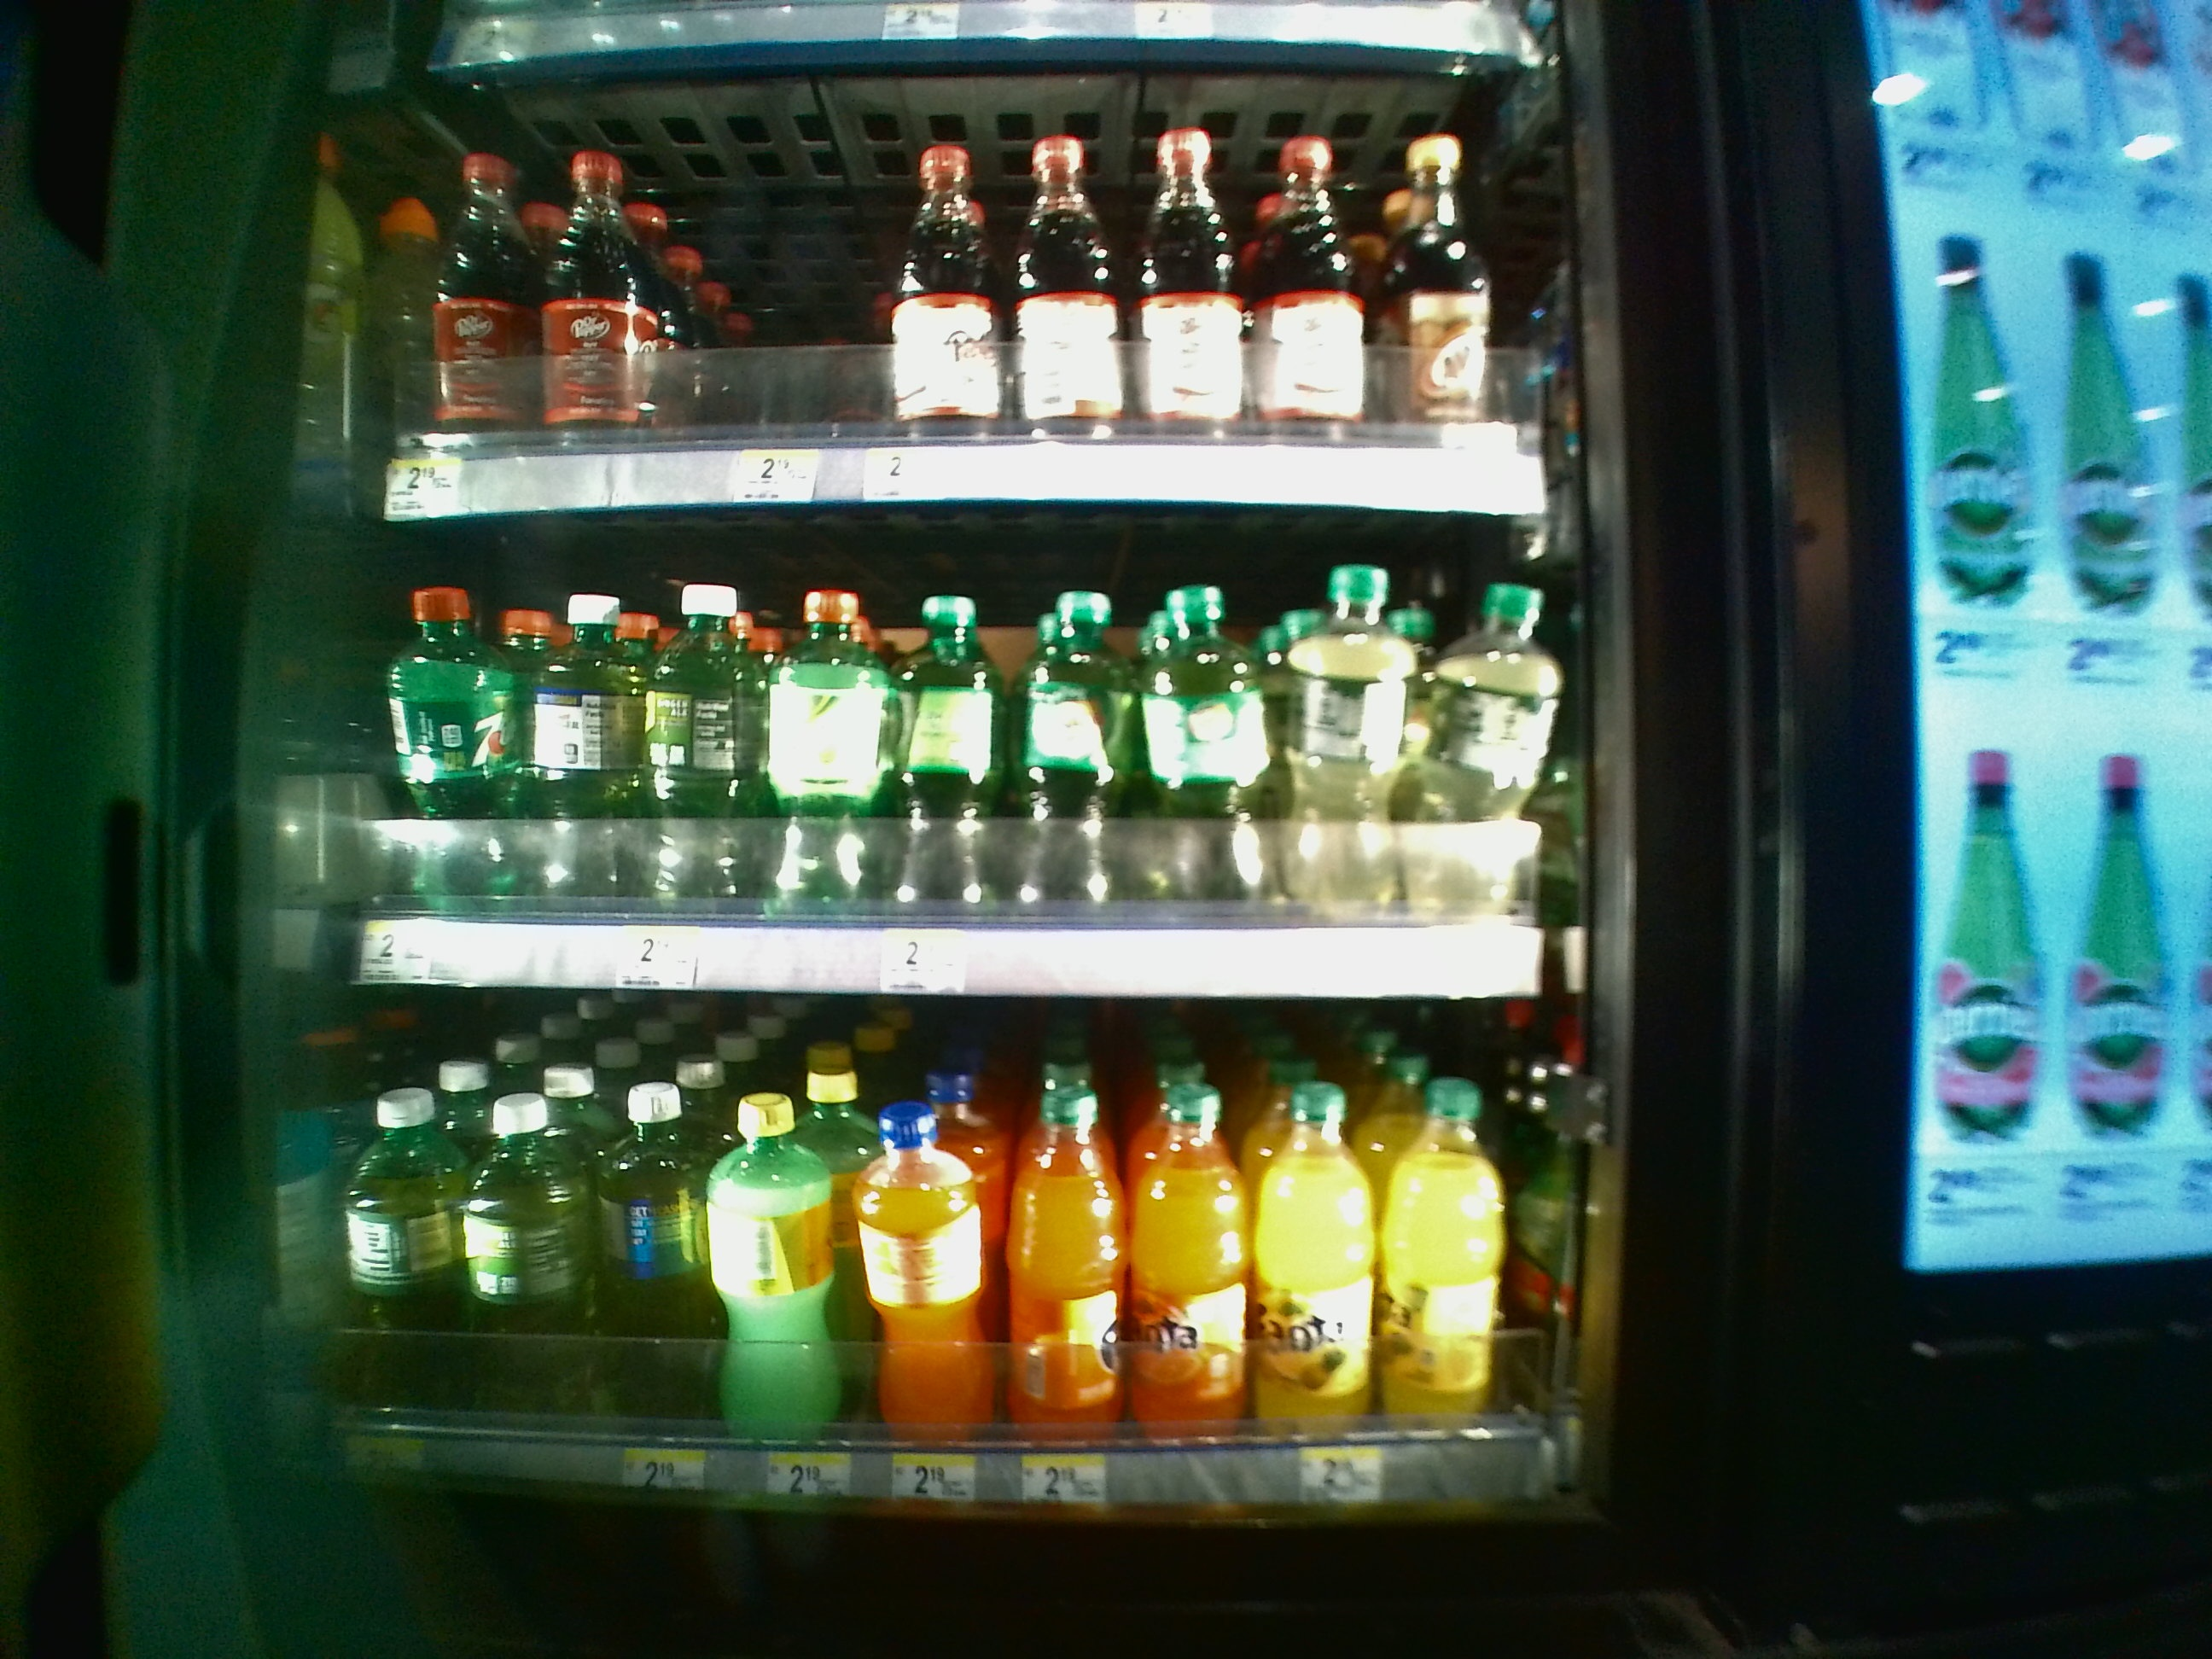shelf: (326, 1002, 1578, 1521), (348, 523, 1578, 1000)
